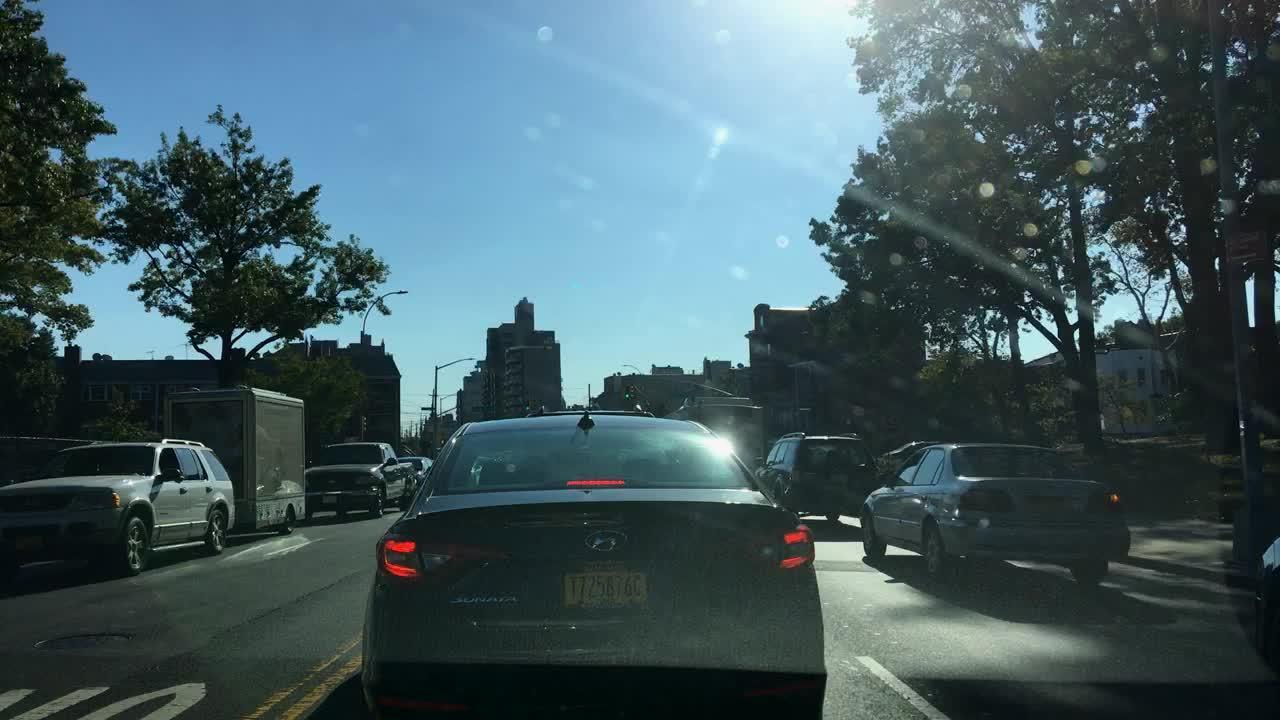Hyundai: (576, 519, 649, 564)
